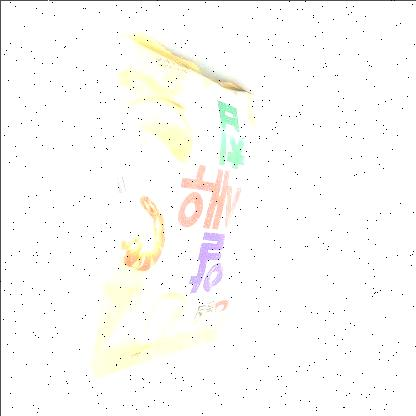Others: (75, 20, 267, 384)
